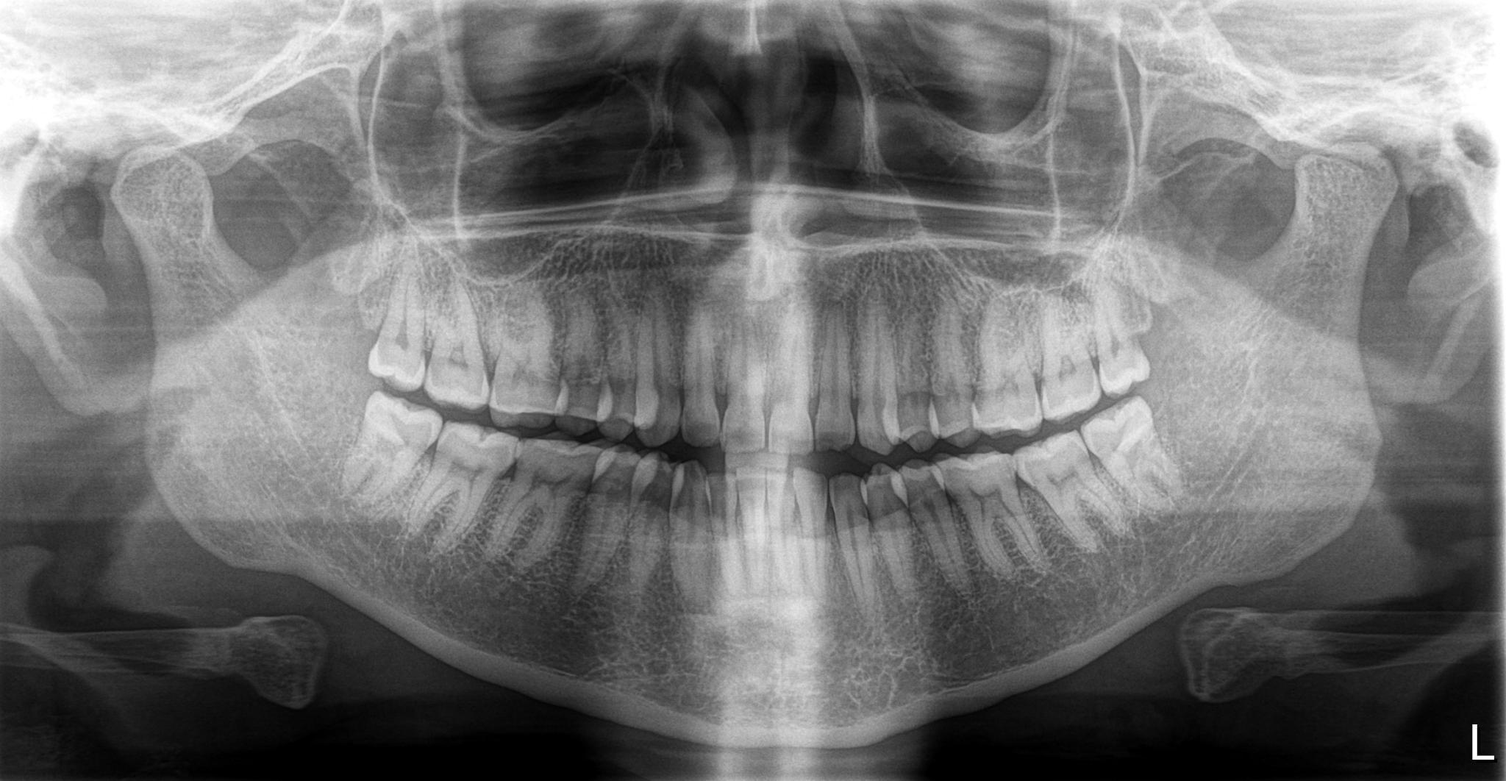Impacted Third Molar: (1093, 396, 1207, 501), (358, 393, 438, 515)
